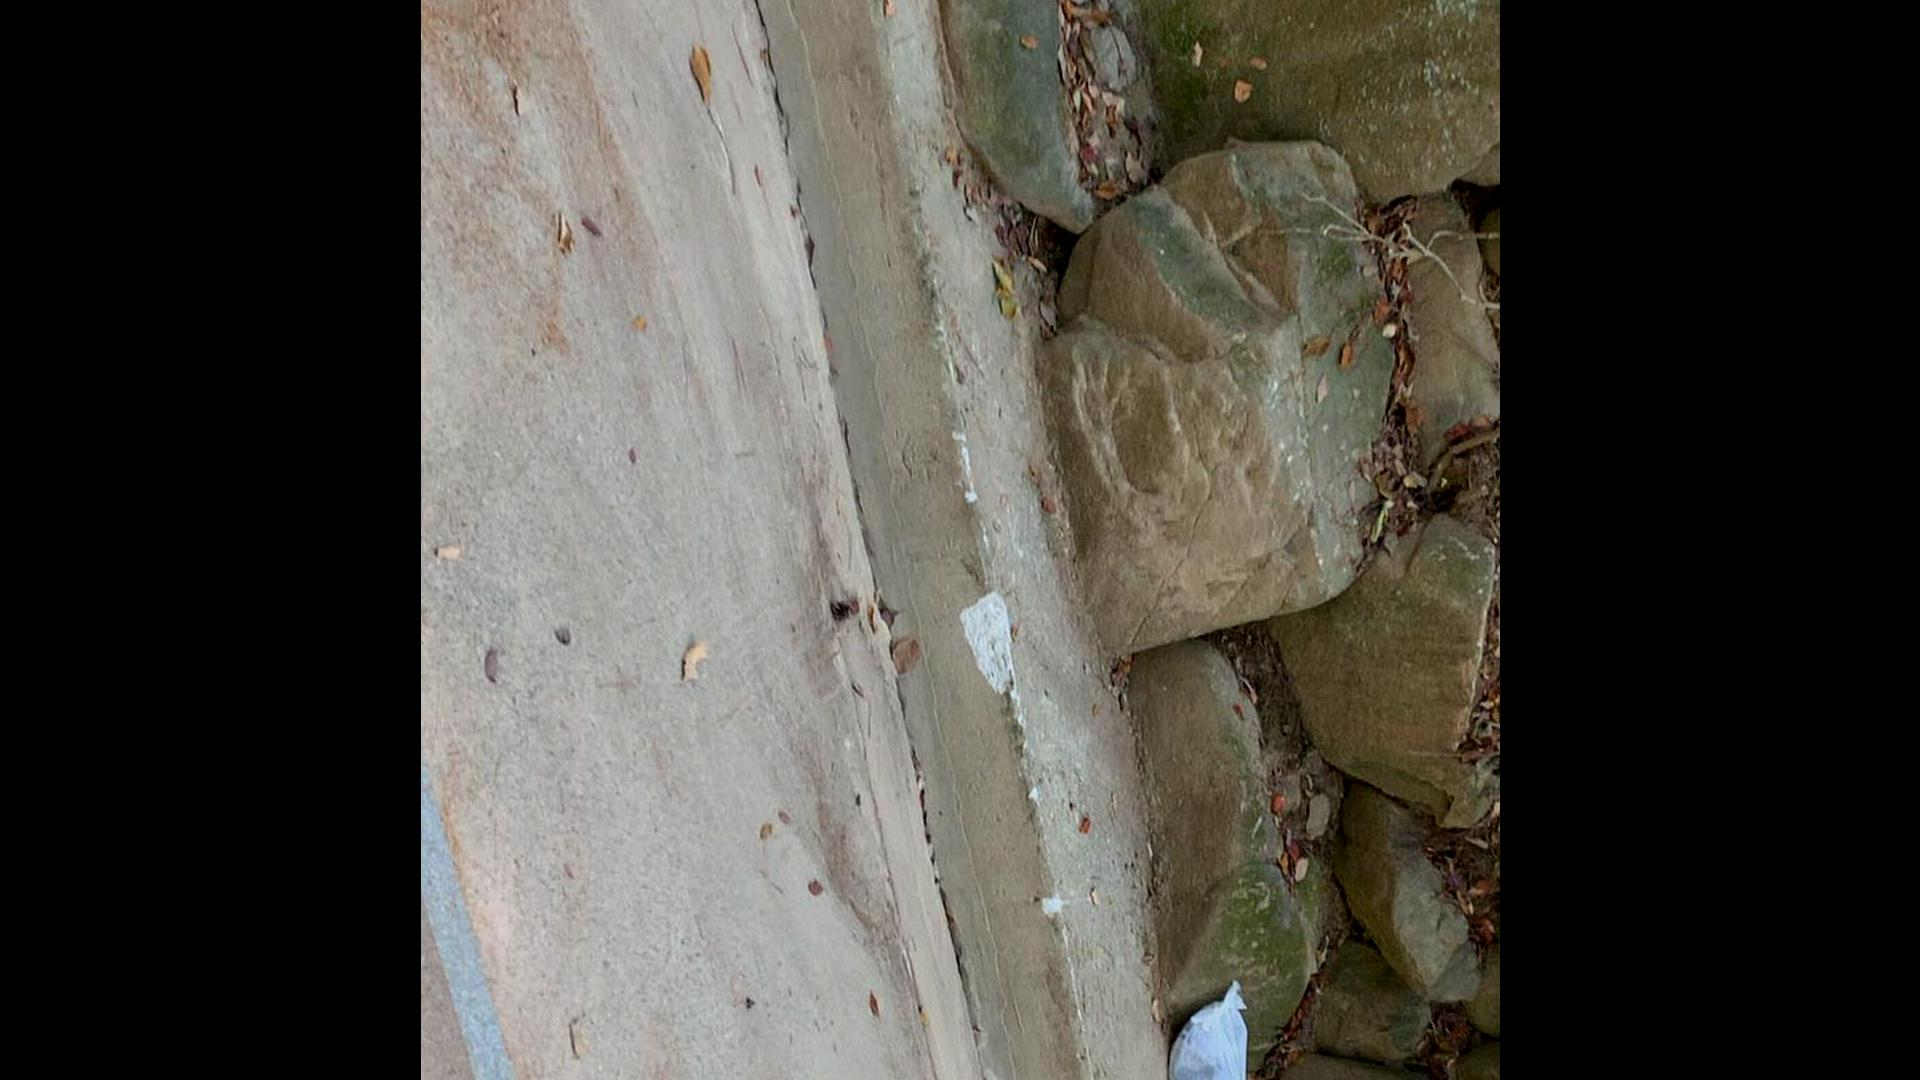white_bag: (1160, 967, 1250, 1080)
